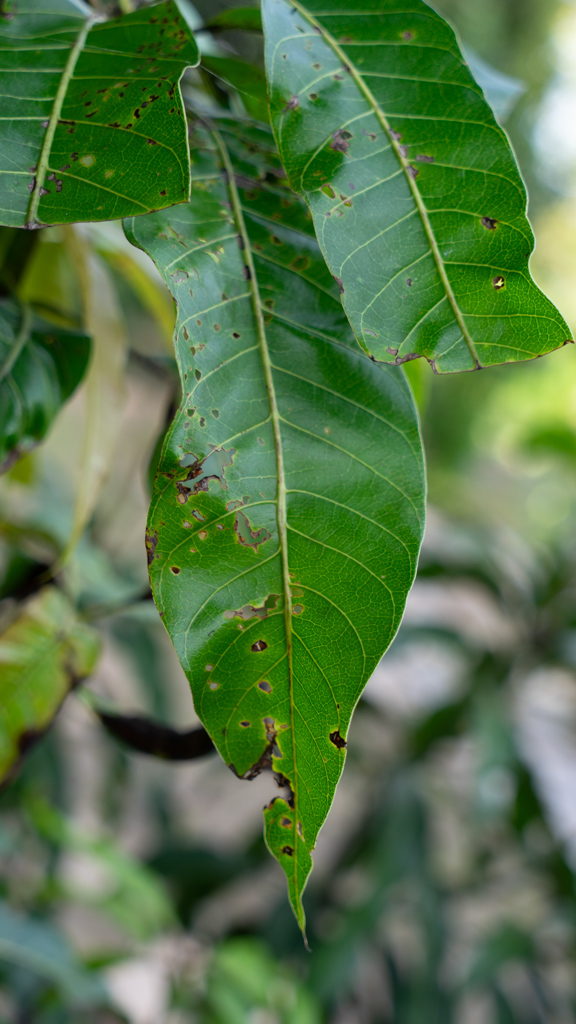Alternaria brassicicola: (107, 197, 321, 902), (268, 11, 447, 311), (29, 3, 193, 211)
